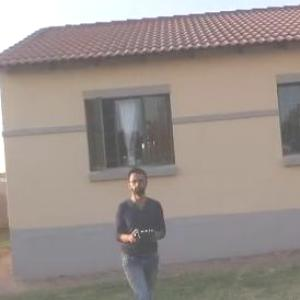follow: (110, 162, 168, 299)
